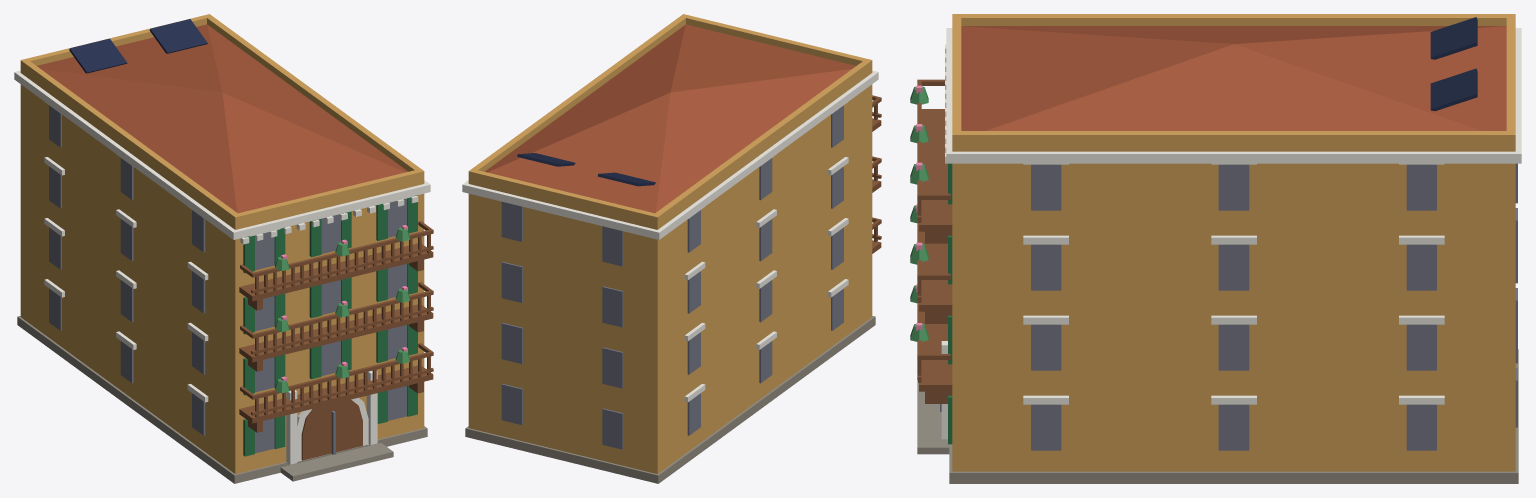
Rendered from house-1x2-4f-colonial-a-solar.glb.
The picture shows the model from 3 angles, left to right: view 1: azimuth 30°, elevation 25°; view 2: azimuth 150°, elevation 25°; view 3: azimuth 270°, elevation 25°; orthographic projection. The views are drawn at different scales.
Parts seen in each view (by area): view 1: house-1x2-4f-colonial-a-solar; view 2: house-1x2-4f-colonial-a-solar; view 3: house-1x2-4f-colonial-a-solar.
Boxes of the visible parts, x1=… form: house-1x2-4f-colonial-a-solar: x1=14, y1=14, x2=433, y2=483; house-1x2-4f-colonial-a-solar: x1=462, y1=14, x2=881, y2=483; house-1x2-4f-colonial-a-solar: x1=910, y1=14, x2=1521, y2=483.
Size of the model in its own units: 0.98 by 1.37 by 2.01.
1 material, 1 textured.
